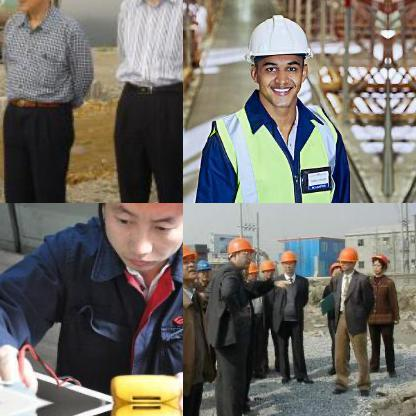Helmet: (236, 9, 316, 117), (81, 203, 182, 279), (223, 235, 254, 271), (1, 0, 60, 13), (183, 240, 199, 285), (366, 249, 390, 277), (276, 247, 298, 276), (336, 245, 358, 274), (194, 254, 210, 284), (257, 257, 275, 281), (327, 261, 341, 281)
